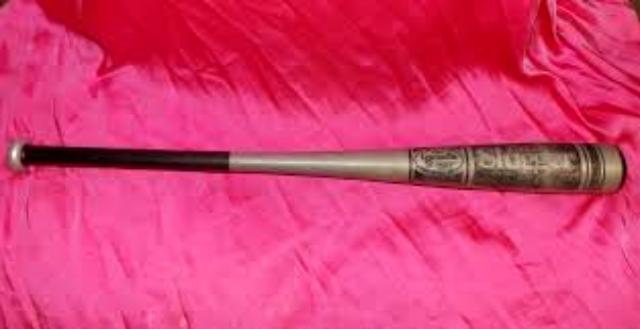baseball bat: (6, 140, 624, 194)
